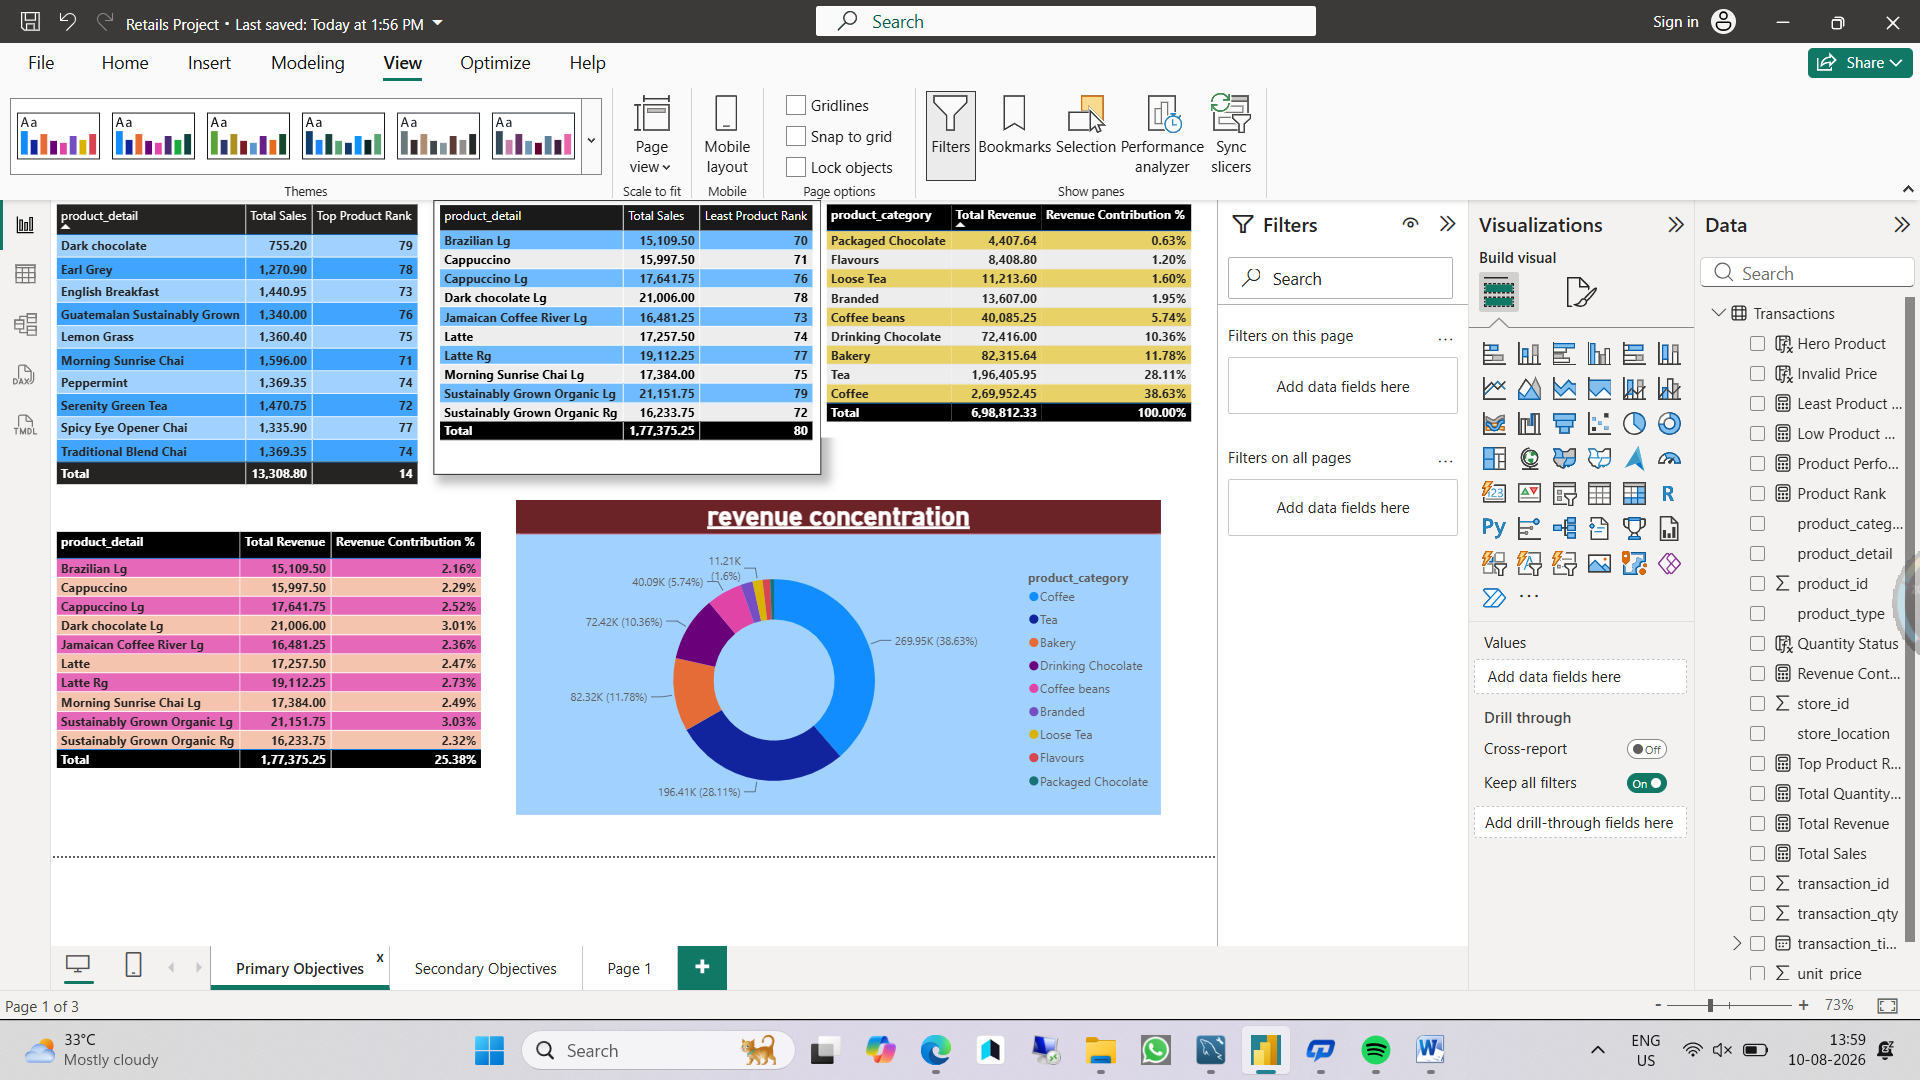

Layout of this report page (visuals, bound fields, positions):
{"tool":"powerbi","page":{"name":"Primary Objectives","canvas":[1280,720],"ordinal":0},"visuals":[{"type":"actionButton","box":[0,0,100,40],"z":0},{"type":"tableEx","fields":{"Values":["Transactions.product_detail","Transactions.Total Sales","Transactions.Top Product Rank"]},"box":[0,0,437.7,376],"z":1000},{"type":"tableEx","fields":{"Values":["Transactions.product_detail","Transactions.Total Sales","Transactions.Least Product Rank"]},"box":[419.9,0,425.4,301.9],"z":2000},{"type":"tableEx","fields":{"Values":["Transactions.product_detail","Transactions.Total Revenue","Transactions.Revenue Contribution %"]},"box":[0,359.5,510.5,329.3],"z":3000},{"type":"tableEx","fields":{"Values":["Transactions.product_category","Transactions.Total Revenue","Transactions.Revenue Contribution %"]},"box":[845.3,0,418.5,260.7],"z":4000},{"type":"donutChart","title":" revenue concentration ","fields":{"Category":["Transactions.product_category"],"Y":["Transactions.Total Revenue"]},"box":[510.5,329.3,708.1,345.8],"z":5000}]}

Visuals, with their boxes on the page's 1280x720 design canvas (x1, y1, x2, y2). These are canvas units, not pixel positions in the 1920x1080 screenshot, which may show the page scaled, cropped or inside an application window:
actionButton: (0,0,100,40)
tableEx - Transactions.product_detail x Transactions.Total Sales: (0,0,438,376)
tableEx - Transactions.product_detail x Transactions.Total Sales: (420,0,845,302)
tableEx - Transactions.product_detail x Transactions.Total Revenue: (0,360,510,689)
tableEx - Transactions.product_category x Transactions.Total Revenue: (845,0,1264,261)
" revenue concentration " donutChart: (510,329,1219,675)
